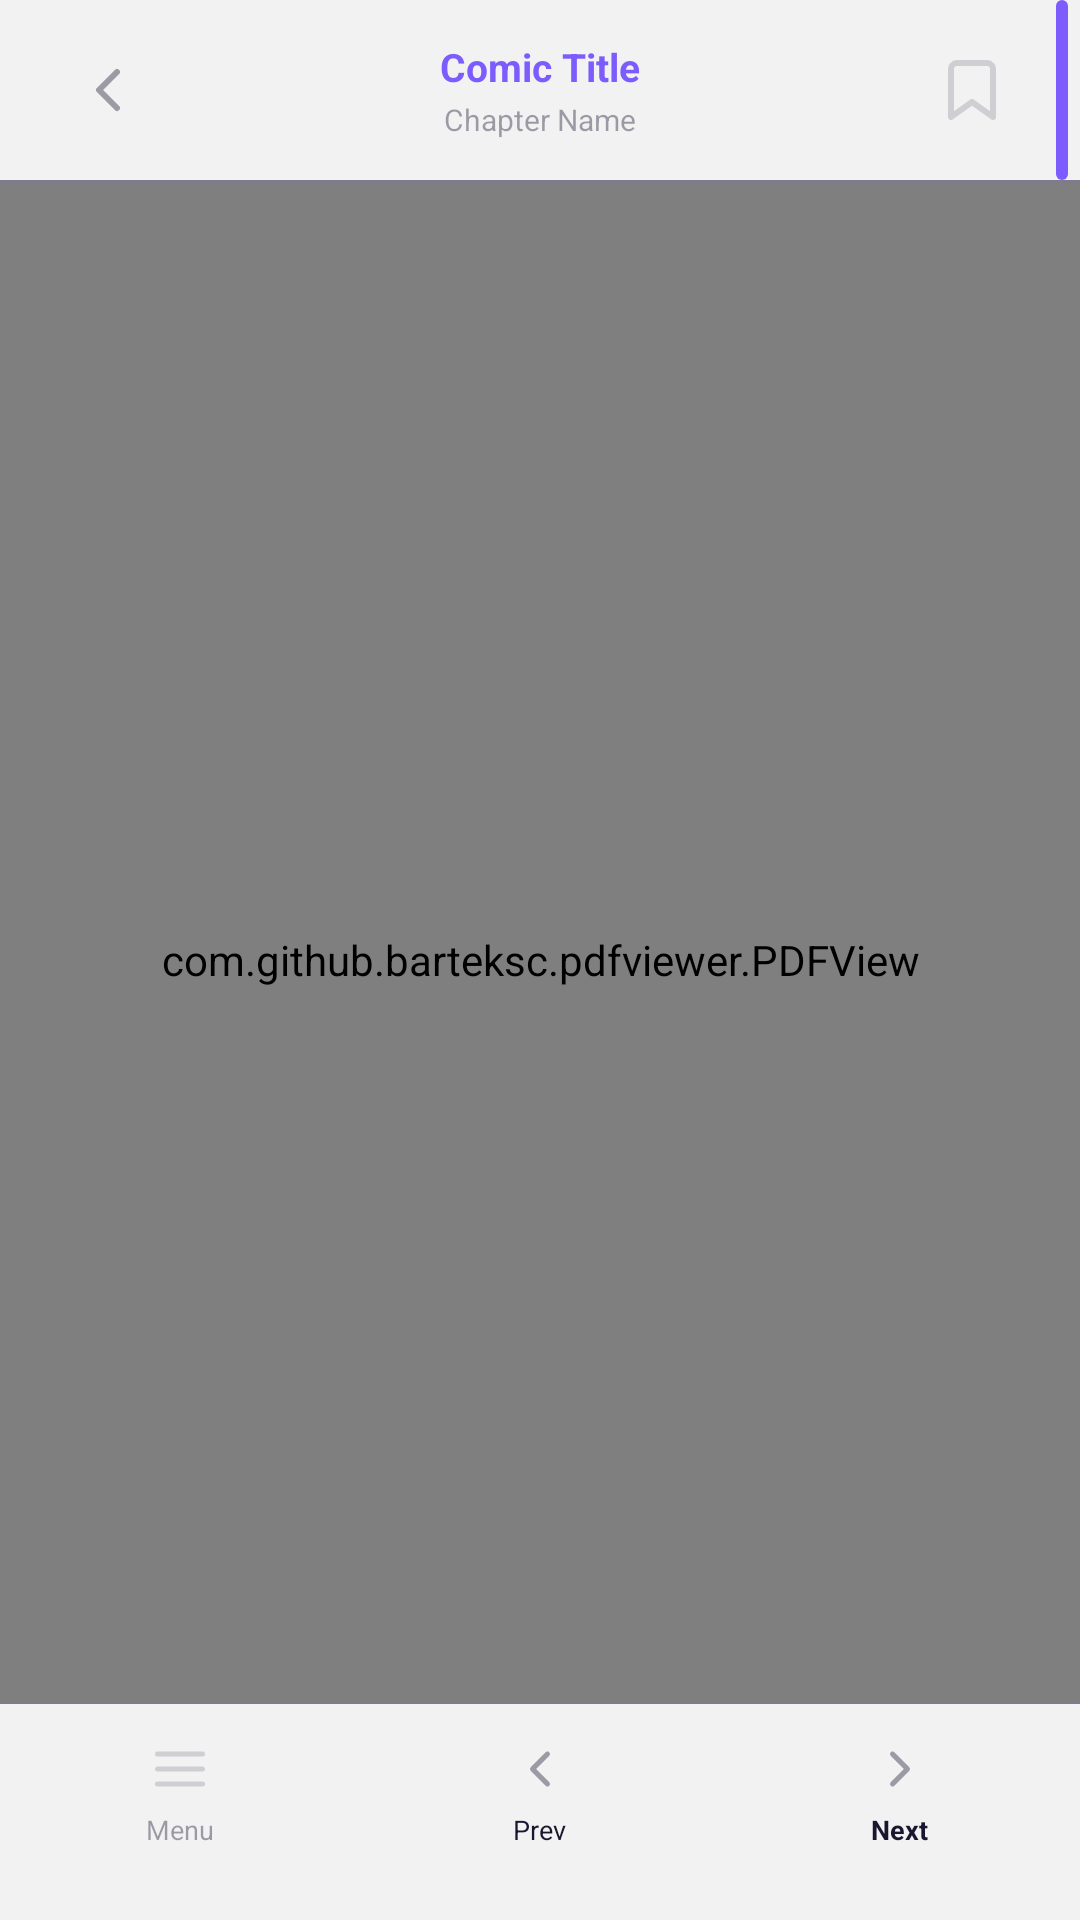

Locate icon controls on the screen. Image size 1080w x 1920h, boxes as box=[x1, y1, x2, y2].
Back: box=[96, 69, 120, 111]
Bookmark: box=[948, 60, 996, 120]
chevron left: box=[530, 1751, 550, 1787]
chevron right: box=[890, 1751, 910, 1787]
